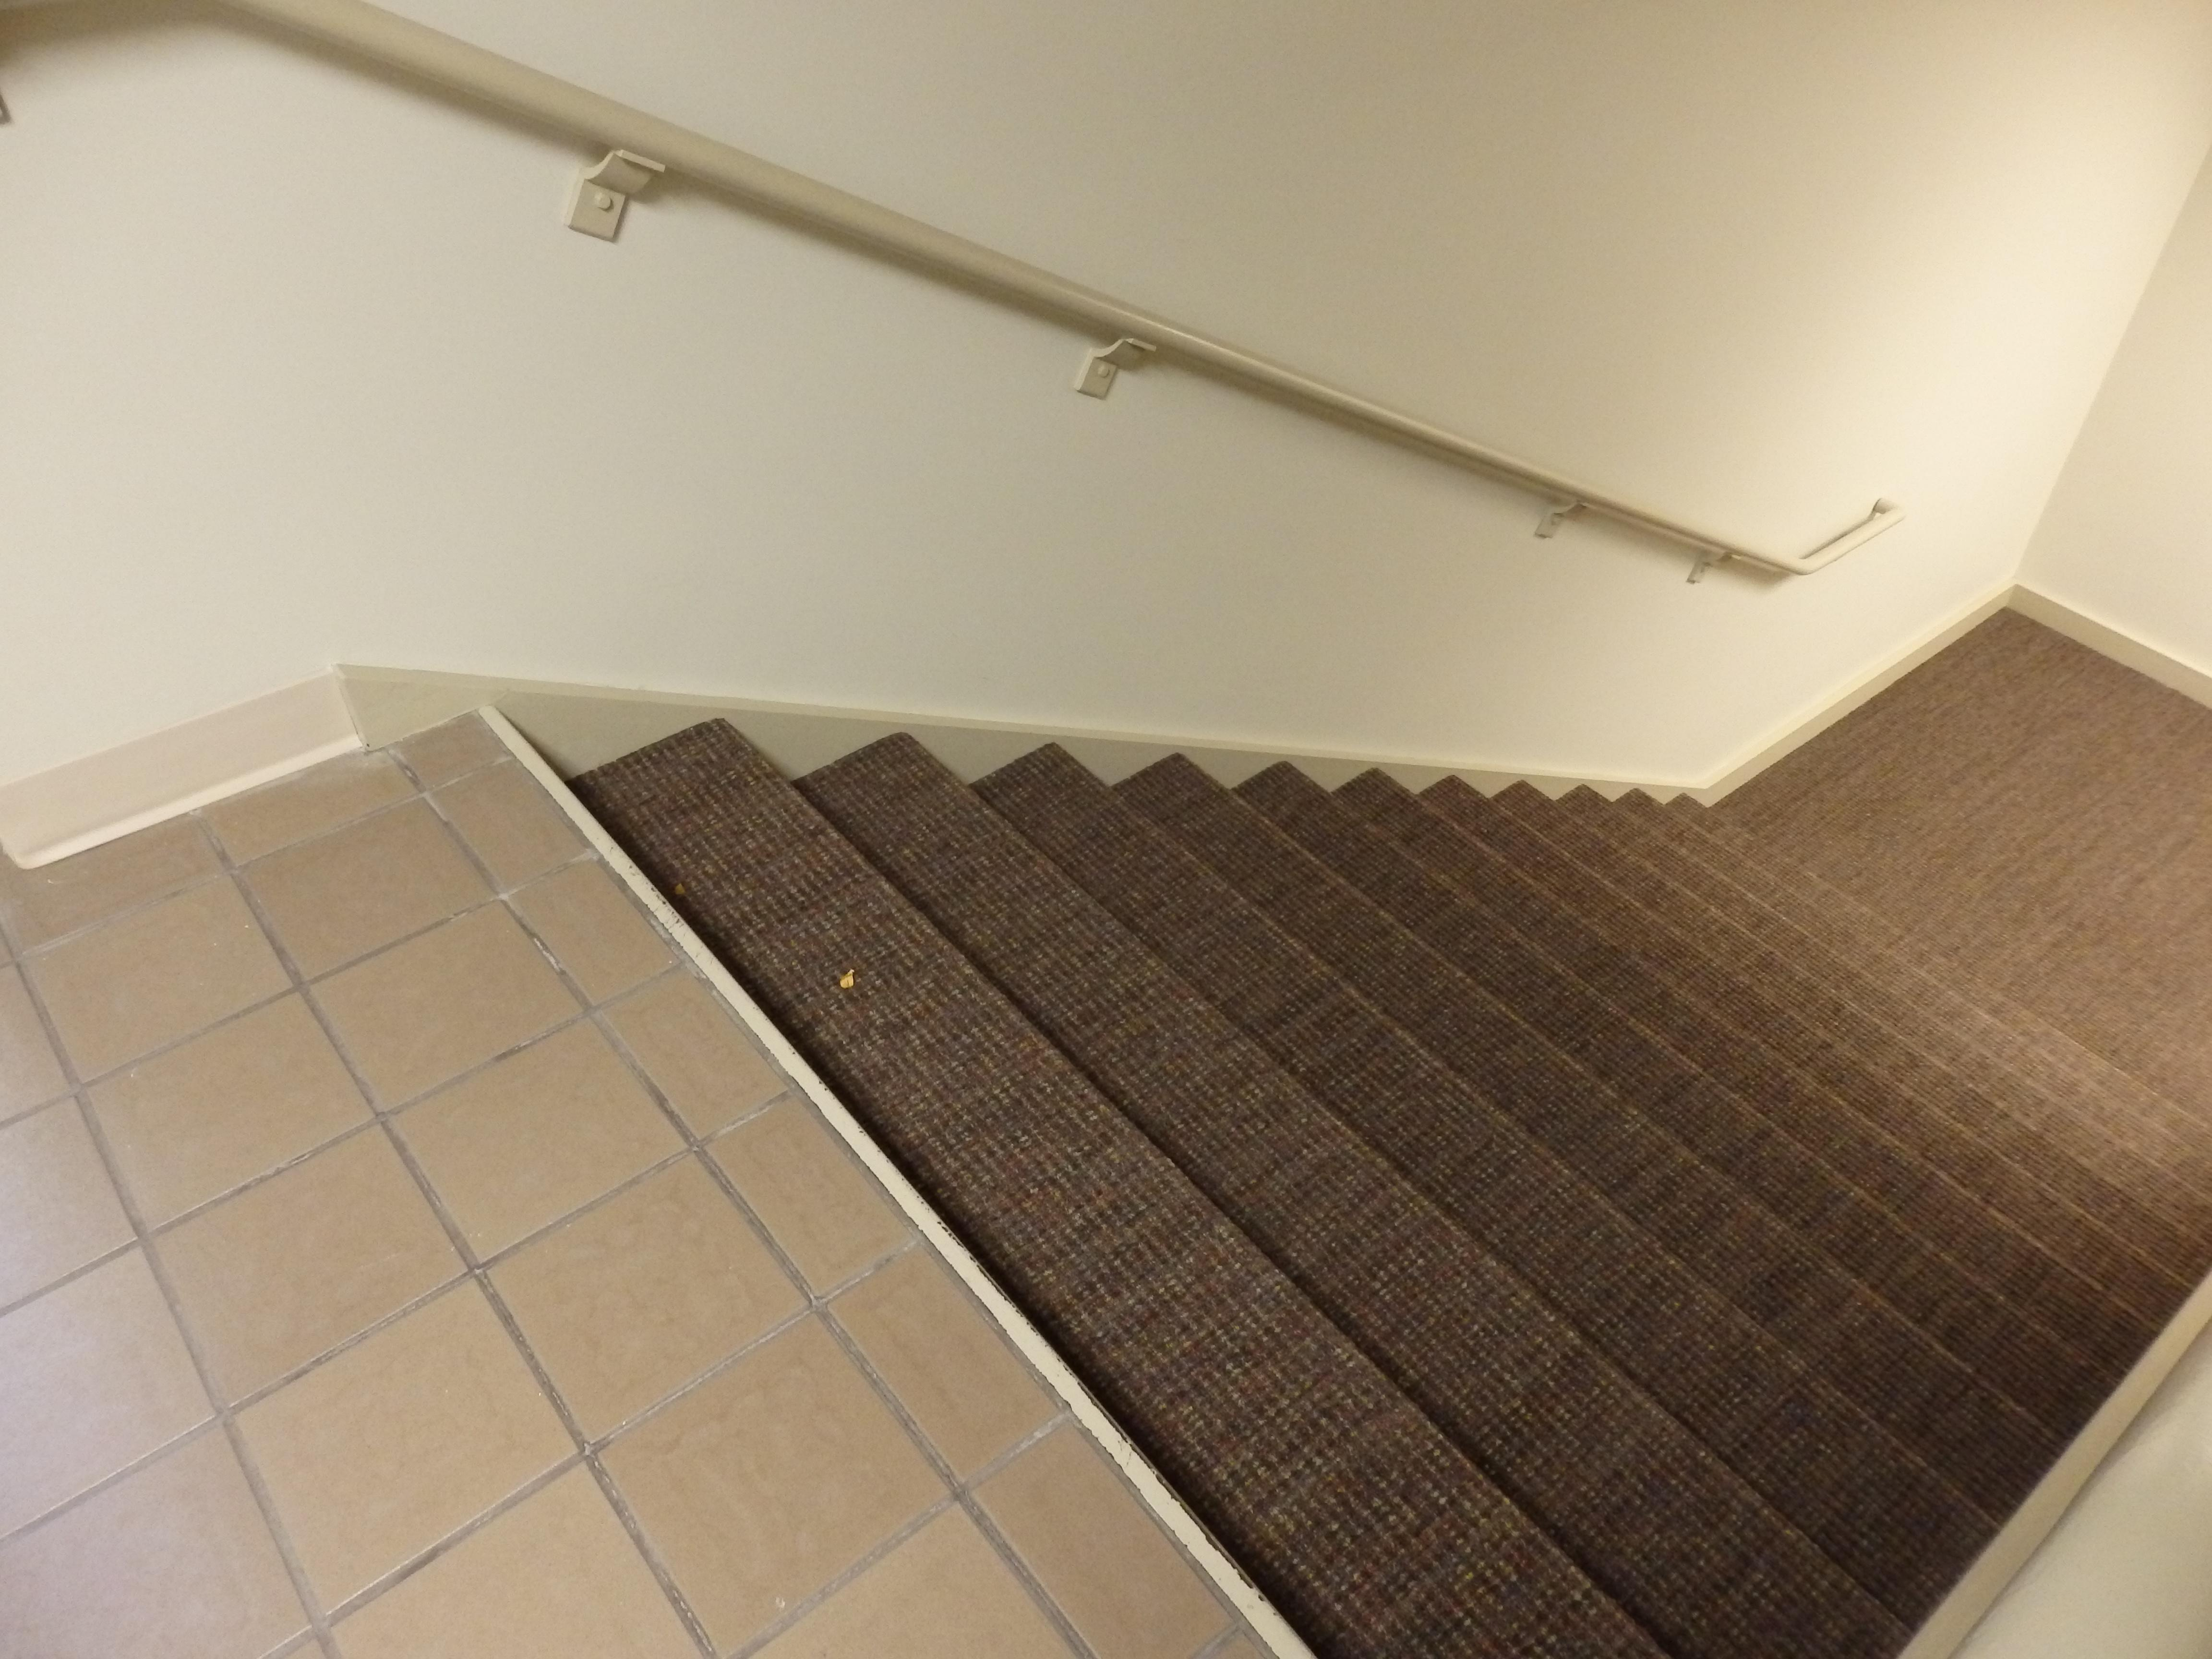stairs_down: (493, 720, 2212, 1521)
